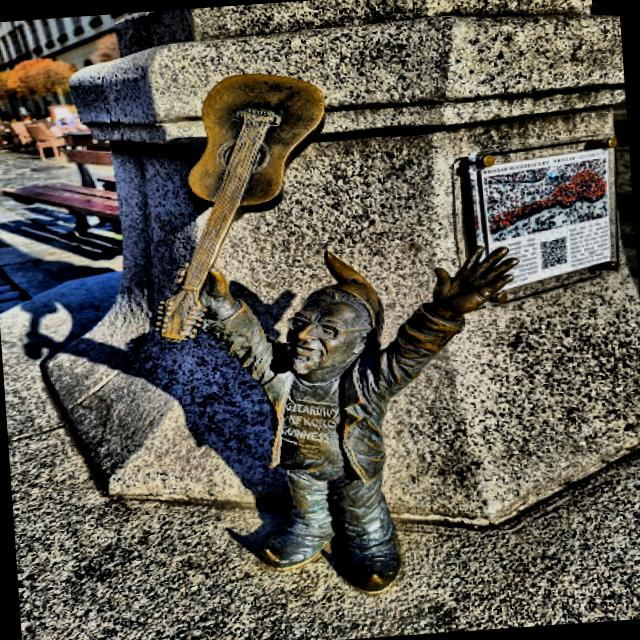Leszko_z_Wroclawia: (156, 73, 517, 591)
